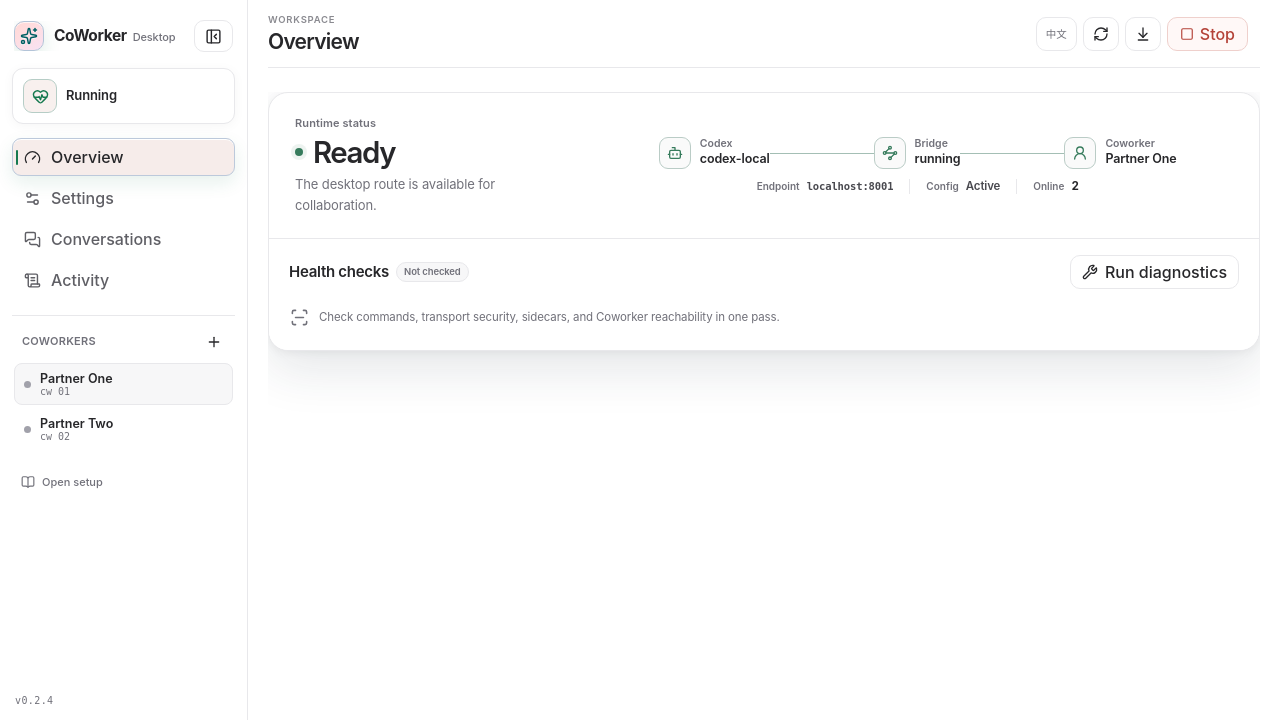
Test: App backend operation wiring › manually refreshes the selected conversation
Check: the text "codex-local" is shown, box [700,151,770,168]
Click the button "Conversations" at (124, 239), box [12,220,235,258]
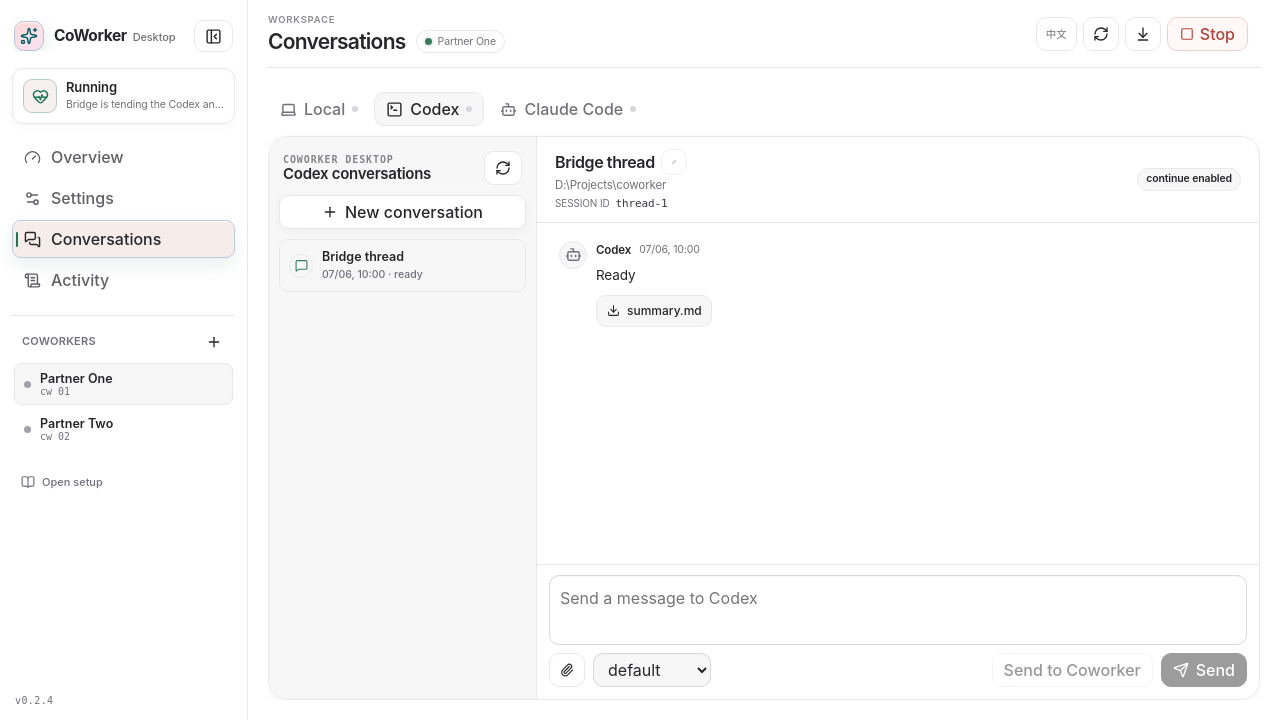
Check: the text "Bridge thread" is shown, box [322,249,404,264]
Check: the text "Ready" is shown, box [596,267,635,283]
Click the button named "Refresh conversations" at (503, 168), box [484,151,522,185]
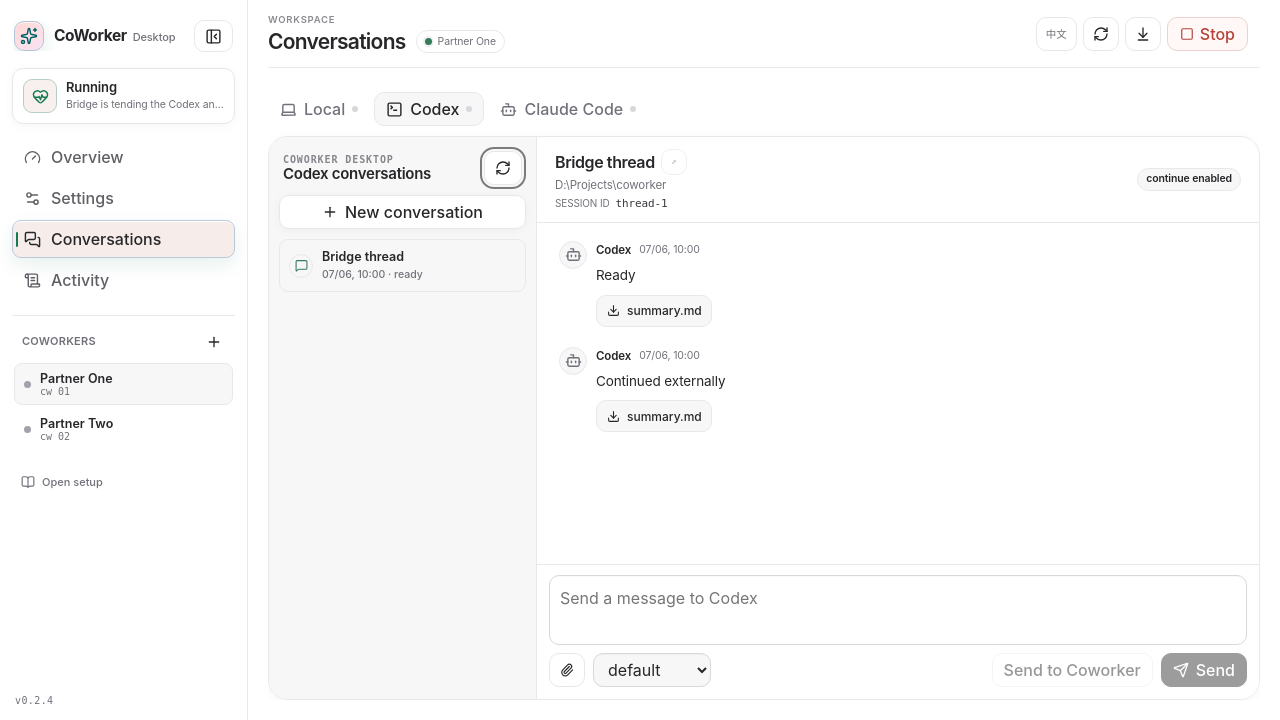
Check: the text "Continued externally" is shown, box [596,372,725,388]
